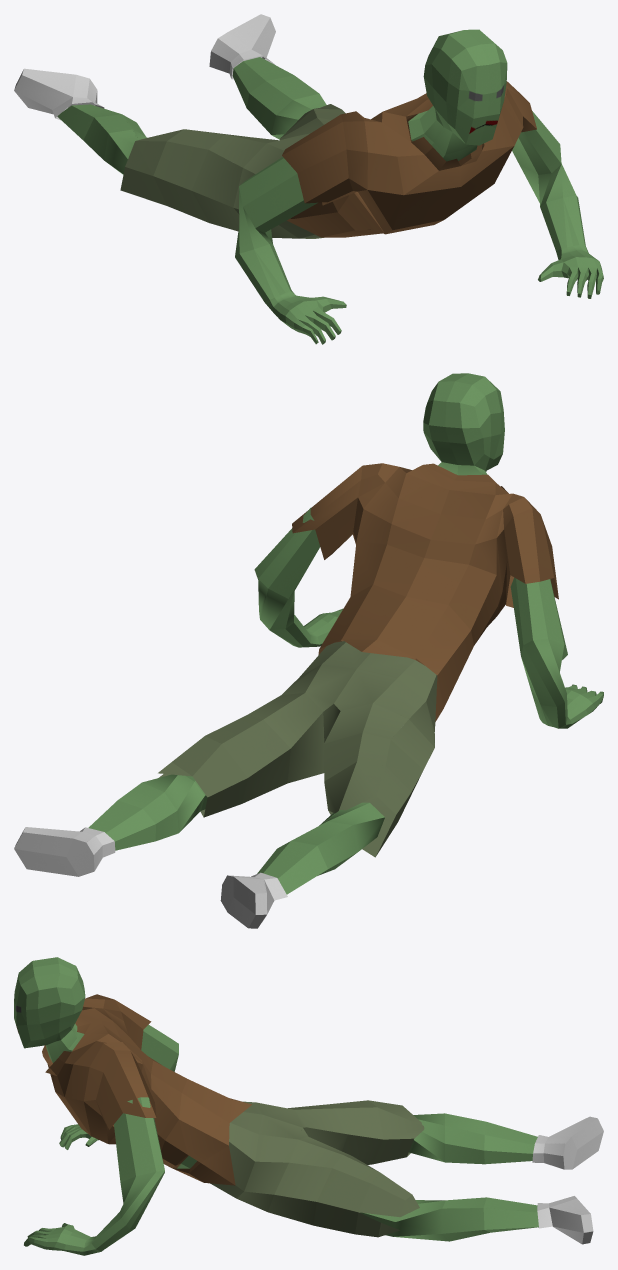
The model's file is ZombieCrawl(150).obj.
3 renders of one model, top to bottom at view 1: azimuth 30°, elevation 25°; view 2: azimuth 150°, elevation 25°; view 3: azimuth 270°, elevation 25°, orthographic. The views are drawn at different scales.
Parts seen in each view (by area): view 1: Object001; view 2: Object001; view 3: Object001.
Boxes of the visible parts, x1,y1,x2,y2 form: Object001: (14,14,603,344); Object001: (14,373,603,928); Object001: (14,957,603,1255).
Size of the model in its own units: 28.92 by 25.47 by 54.19.
